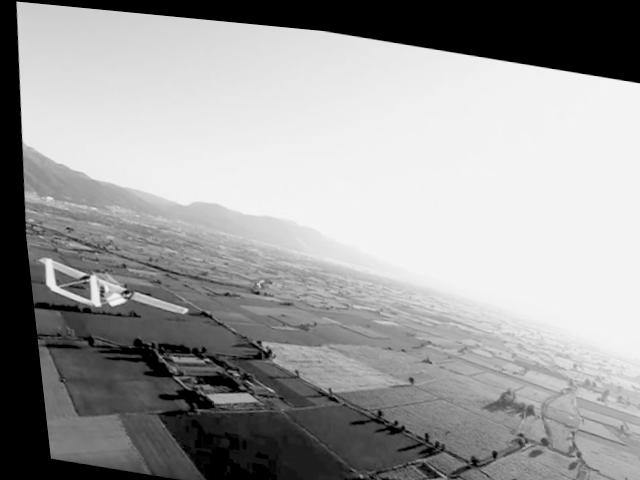hedef: (23, 247, 188, 340)
